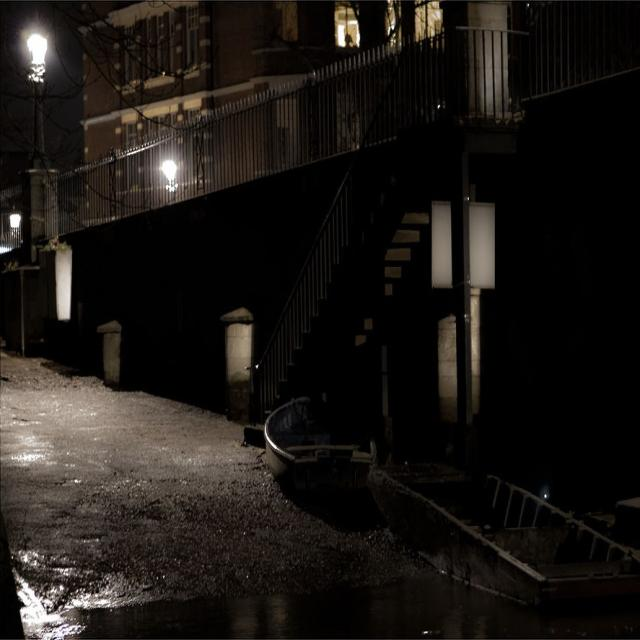Boat: (376, 392, 628, 618), (258, 353, 380, 500)
